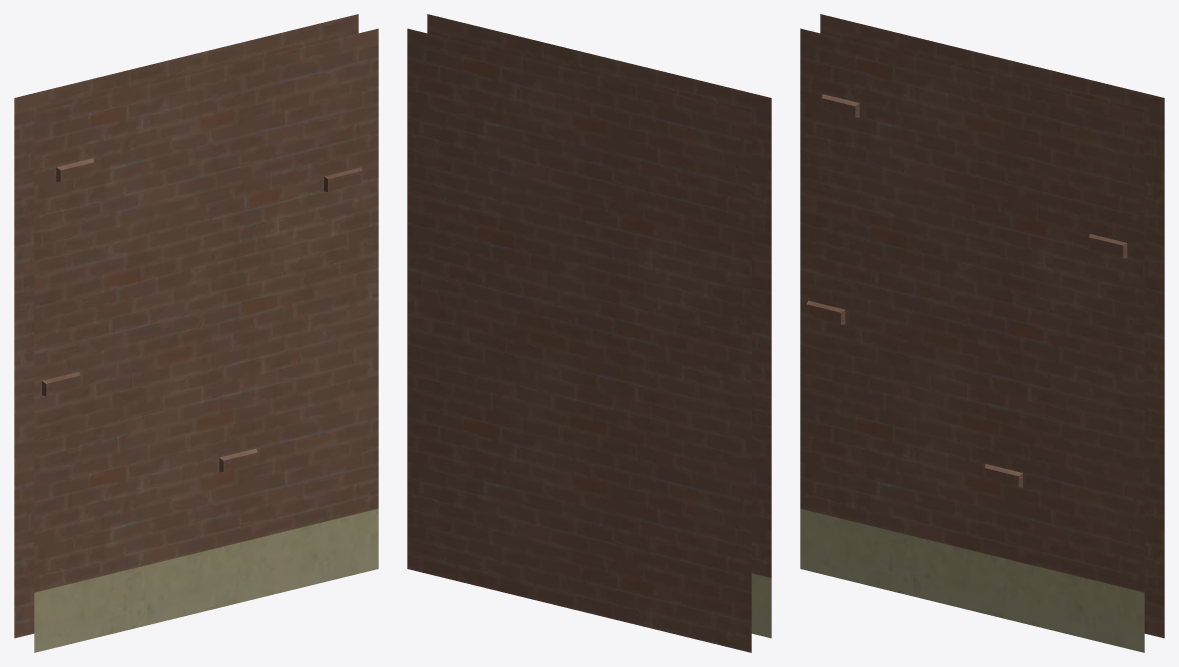
Rendered from Brick_BottomTrim.glb.
3 renders of one model, left to right at view 1: azimuth 30°, elevation 25°; view 2: azimuth 150°, elevation 25°; view 3: azimuth 330°, elevation 25°, orthographic.
Visible parts, largest first — view 1: Brick_BottomTrim; view 2: Brick_BottomTrim; view 3: Brick_BottomTrim.
Boxes of the visible parts, x1,y1,x2,y2 form: Brick_BottomTrim: (14, 14, 378, 652); Brick_BottomTrim: (407, 14, 771, 652); Brick_BottomTrim: (800, 14, 1164, 652).
Bounding box in the file's own units: 2 × 3 × 0.2289.
2 materials, 2 textured.
